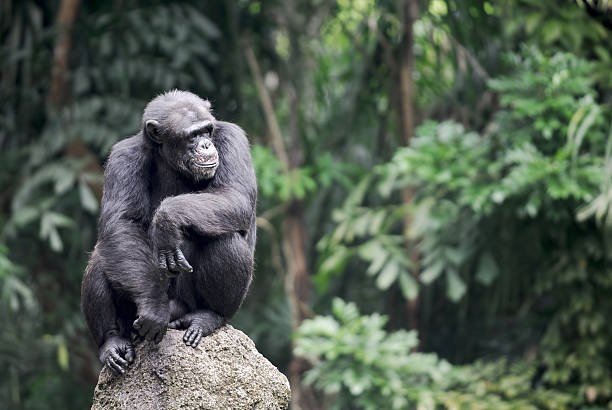chimpanzee: (110, 82, 242, 197)
